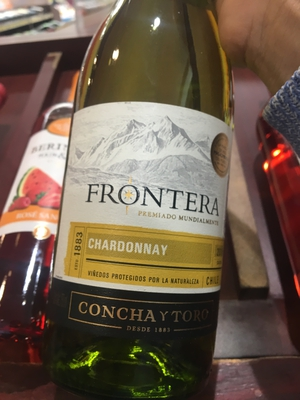frontera chardonnay: (47, 22, 243, 370)
